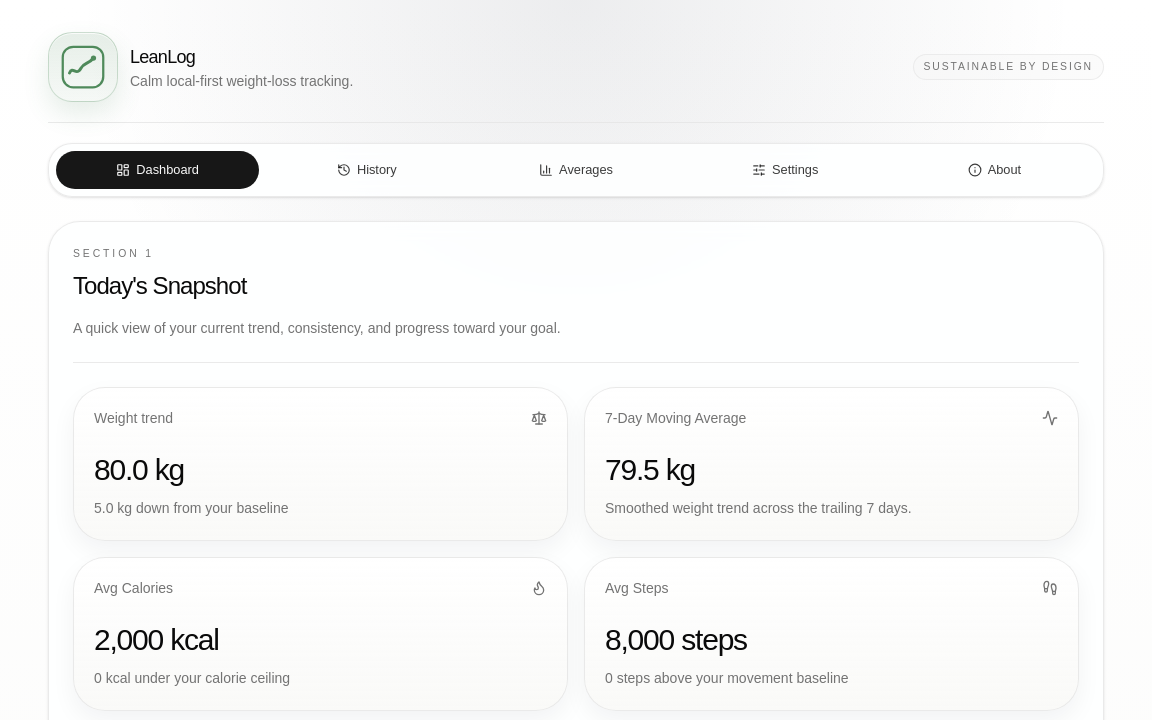
App › switches to the history page from the header navigation
Click the button "History": coordinates (367, 170) [264,150,469,190]
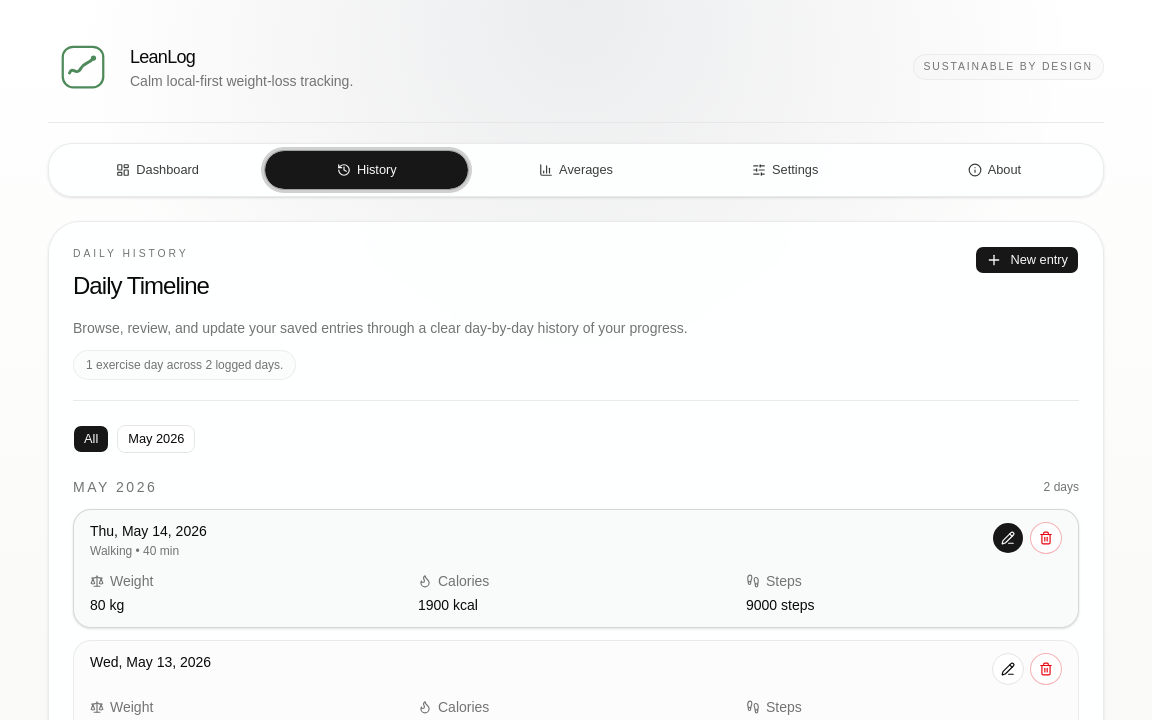
Now the heading "Daily Timeline" is shown, box [73,270,209,302]
Now the button "New entry" is shown, box [975,246,1079,274]
Now the text "Thu, May 14, 2026" is shown, box [90,523,207,539]
Click the button named "go to dashboard": coordinates (83, 67) [48,32,118,102]
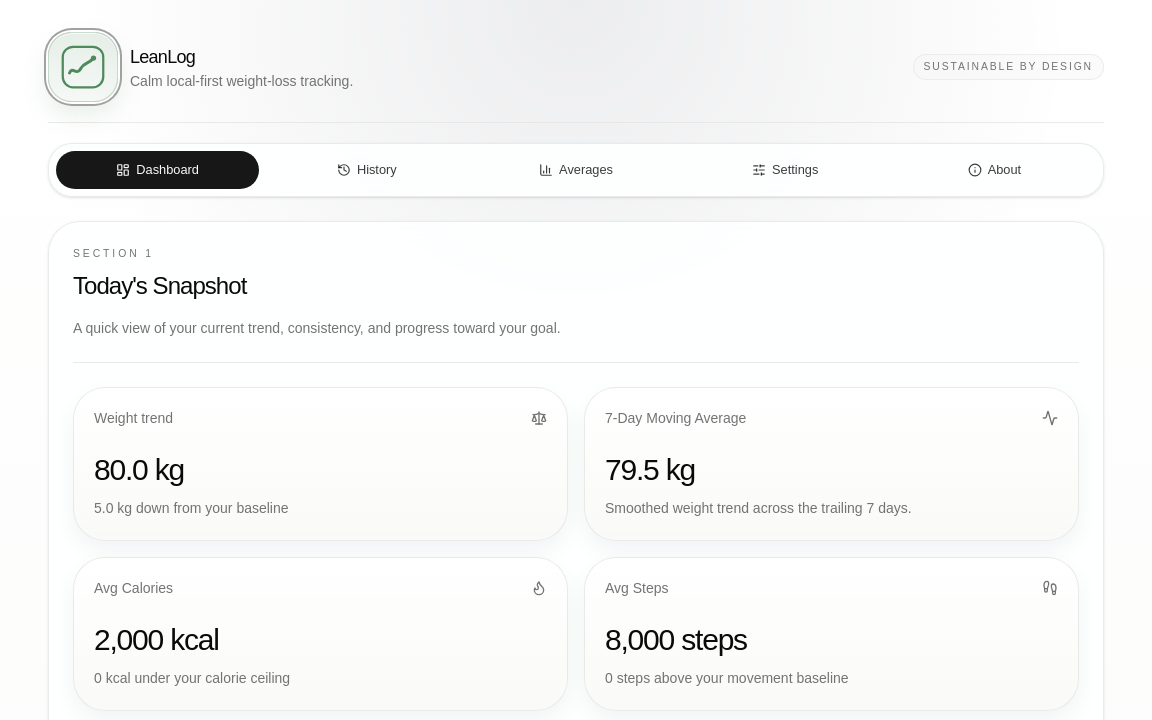
Now the heading "Today's Snapshot" is shown, box [73,272,246,299]
